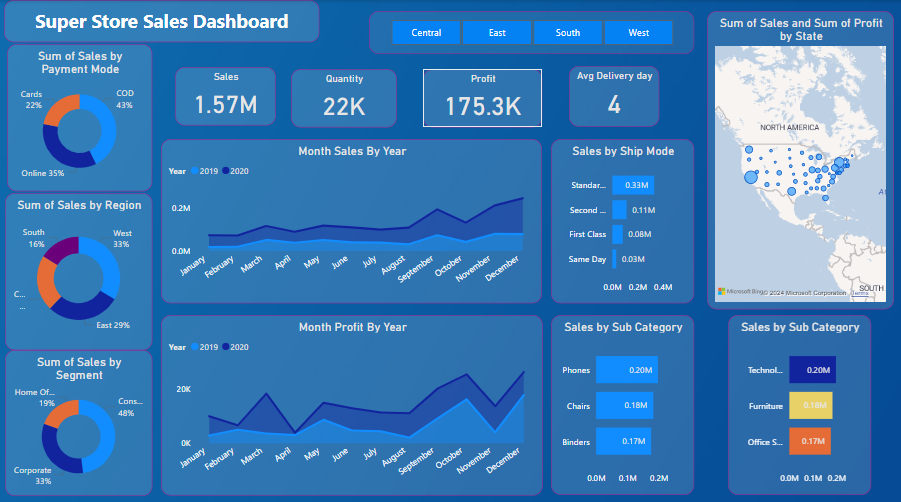

The page's visual inventory and layout, read from the dashboard file:
{"tool":"powerbi","page":{"name":"Page 1","canvas":[1280,720],"ordinal":0},"visuals":[{"type":"clusteredBarChart","title":"Sales by Sub Category","fields":{"Y":["Sum(SuperStore_Sales_Dataset.Sales)"],"Category":["SuperStore_Sales_Dataset.Sub-Category"]},"box":[784.5,446.8,203.3,255.3],"z":0},{"type":"clusteredBarChart","title":"Sales by Ship Mode","fields":{"Y":["Sum(SuperStore_Sales_Dataset.Sales)"],"Category":["SuperStore_Sales_Dataset.Ship Mode"]},"box":[784.5,196.5,203.3,233.5],"z":1000},{"type":"stackedAreaChart","title":" Month Sales By Year","fields":{"Y":["Sum(SuperStore_Sales_Dataset.Sales)"],"Series":["SuperStore_Sales_Dataset.Order Date.Variation.Date Hierarchy.Year"],"Category":["SuperStore_Sales_Dataset.Order Date.Variation.Date Hierarchy.Month","SuperStore_Sales_Dataset.Order Date.Variation.Date Hierarchy.Day"]},"box":[231.4,197.1,540,232.9],"z":2000},{"type":"stackedAreaChart","title":" Month Profit By Year","fields":{"Series":["SuperStore_Sales_Dataset.Order Date.Variation.Date Hierarchy.Year"],"Category":["SuperStore_Sales_Dataset.Order Date.Variation.Date Hierarchy.Month","SuperStore_Sales_Dataset.Order Date.Variation.Date Hierarchy.Day"],"Y":["Sum(SuperStore_Sales_Dataset.Profit)"]},"box":[231.4,447.1,541.4,255.7],"z":3000},{"type":"map","fields":{"Category":["SuperStore_Sales_Dataset.State"],"Size":["Sum(SuperStore_Sales_Dataset.Sales)"]},"box":[1004.5,15.1,265.4,423.3],"z":4000},{"type":"donutChart","fields":{"Y":["Sum(SuperStore_Sales_Dataset.Sales)"],"Category":["SuperStore_Sales_Dataset.Region"]},"box":[10,272.9,208.6,222.9],"z":5000},{"type":"donutChart","fields":{"Y":["Sum(SuperStore_Sales_Dataset.Sales)"],"Category":["SuperStore_Sales_Dataset.Payment Mode"]},"box":[12.9,62.9,205.7,208.6],"z":6000},{"type":"slicer","fields":{"Values":["SuperStore_Sales_Dataset.Region"]},"box":[525.7,15.7,461.4,61.4],"z":7000},{"type":"textbox","box":[8.4,0,446.8,60.5],"z":8000},{"type":"card","title":"Sales","fields":{"Values":["Sum(SuperStore_Sales_Dataset.Sales)"]},"box":[251.4,94.3,142.9,82.9],"z":9000},{"type":"card","title":"Quantity","fields":{"Values":["Sum(SuperStore_Sales_Dataset.Quantity)"]},"box":[415.7,97.1,150,82.9],"z":10000},{"type":"card","title":"Profit","fields":{"Values":["Sum(SuperStore_Sales_Dataset.Profit)"]},"box":[602.9,97.1,168.6,82.9],"z":11000},{"type":"card","title":"Avg Delivery day","fields":{"Values":["Avg(SuperStore_Sales_Dataset.AvgDelivery)"]},"box":[809.3,94.1,127.7,85.7],"z":12000},{"type":"clusteredBarChart","title":"Sales by Sub Category","fields":{"Y":["Sum(SuperStore_Sales_Dataset.Sales)"],"Category":["SuperStore_Sales_Dataset.Category"]},"box":[1034.8,446.8,203.3,255.3],"z":13000},{"type":"donutChart","fields":{"Category":["SuperStore_Sales_Dataset.Segment"],"Y":["Sum(SuperStore_Sales_Dataset.Sales)"]},"box":[10,495.7,208.6,207.1],"z":14000}]}

Visuals, with their boxes in screenshot pixels (x1, y1, x2, y2), scaled from the page's 1280x720 canvas onto the 901x502 screenshot:
"Sales by Sub Category" clusteredBarChart: (left=552, top=312, right=695, bottom=490)
"Sales by Ship Mode" clusteredBarChart: (left=552, top=137, right=695, bottom=300)
" Month Sales By Year" stackedAreaChart: (left=163, top=137, right=543, bottom=300)
" Month Profit By Year" stackedAreaChart: (left=163, top=312, right=544, bottom=490)
map - SuperStore_Sales_Dataset.State x Sum(SuperStore_Sales_Dataset.Sales): (left=707, top=11, right=894, bottom=306)
donutChart - Sum(SuperStore_Sales_Dataset.Sales) x SuperStore_Sales_Dataset.Region: (left=7, top=190, right=154, bottom=346)
donutChart - Sum(SuperStore_Sales_Dataset.Sales) x SuperStore_Sales_Dataset.Payment Mode: (left=9, top=44, right=154, bottom=189)
slicer - SuperStore_Sales_Dataset.Region: (left=370, top=11, right=695, bottom=54)
textbox: (left=6, top=0, right=320, bottom=42)
"Sales" card: (left=177, top=66, right=278, bottom=124)
"Quantity" card: (left=293, top=68, right=398, bottom=126)
"Profit" card: (left=424, top=68, right=543, bottom=126)
"Avg Delivery day" card: (left=570, top=66, right=660, bottom=125)
"Sales by Sub Category" clusteredBarChart: (left=728, top=312, right=872, bottom=490)
donutChart - SuperStore_Sales_Dataset.Segment x Sum(SuperStore_Sales_Dataset.Sales): (left=7, top=346, right=154, bottom=490)
